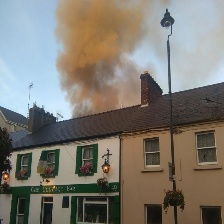smoke: (48, 1, 154, 115)
